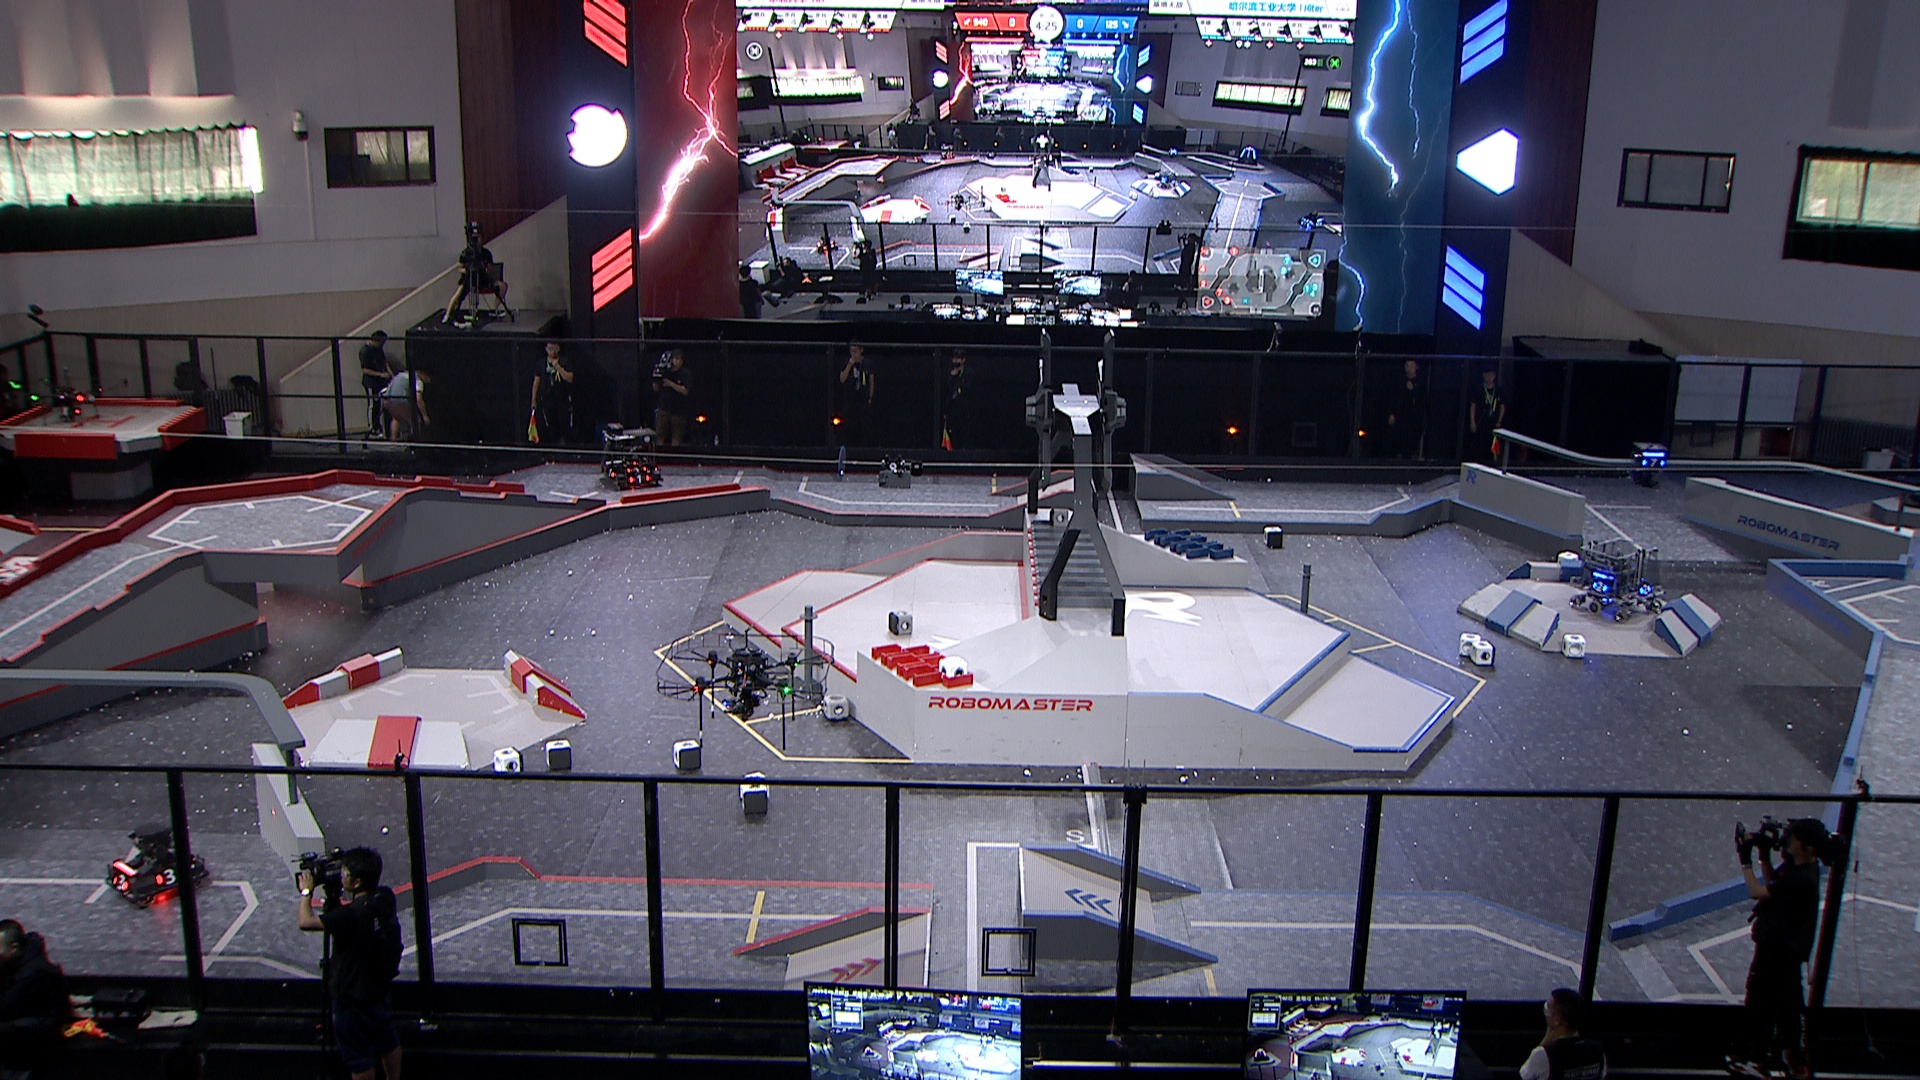armor: (154, 868, 182, 887), (109, 874, 131, 894), (1642, 458, 1669, 469), (628, 472, 651, 485), (1592, 580, 1609, 595), (1636, 583, 1654, 595), (624, 465, 647, 473), (605, 467, 617, 480)
car: (105, 822, 210, 910), (1571, 535, 1667, 624), (603, 422, 665, 491)
ignore: (1299, 211, 1327, 229), (1238, 145, 1261, 167), (816, 237, 839, 256), (1156, 171, 1178, 190), (940, 142, 956, 162), (769, 195, 787, 210), (1168, 148, 1179, 160)
watcher: (1633, 442, 1669, 488)
